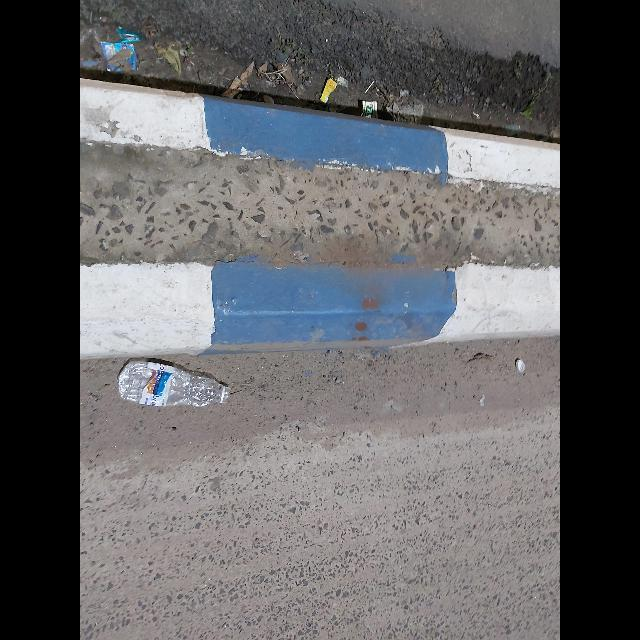Plastic: (118, 361, 230, 407), (102, 42, 136, 72)
